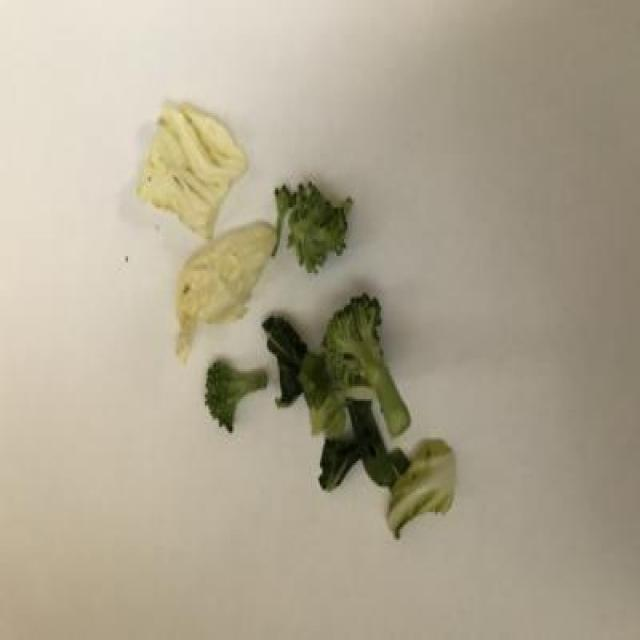compost: (118, 90, 474, 552)
